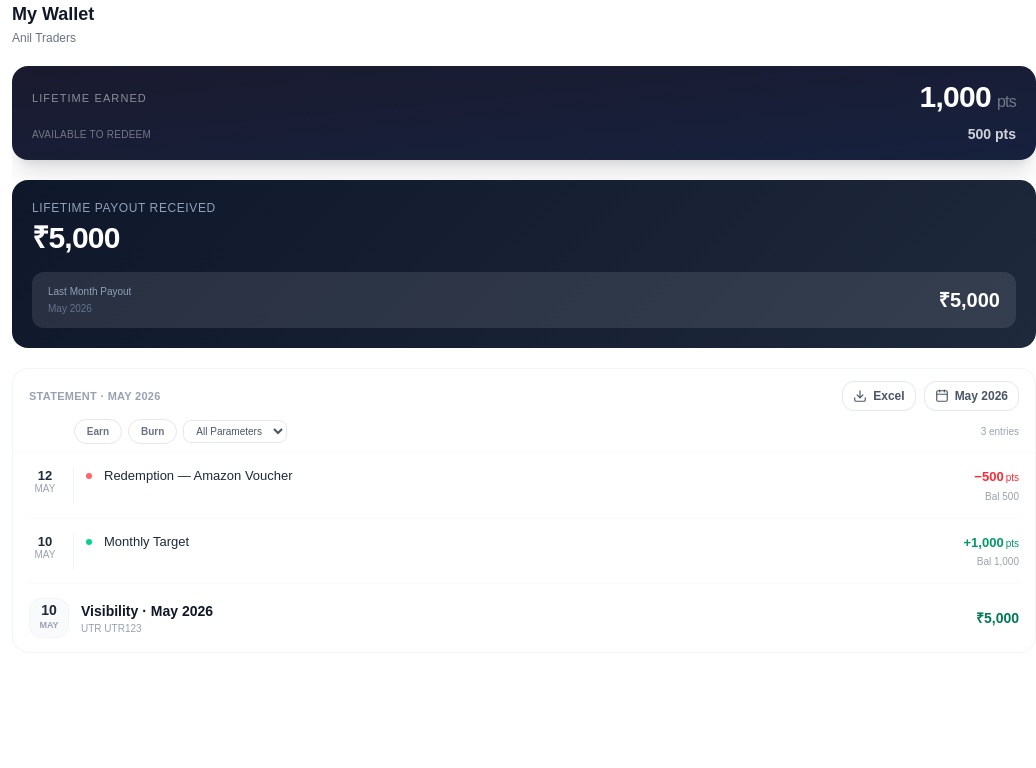
W — KPI filter in the combined partner wallet statement › W4: selecting "All Parameters" restores all rows
The image size is (1036, 768).
Select "Monthly Target" in the dropdown with test id "wallet-kpi-filter": point(235, 432) [183,420,287,443]
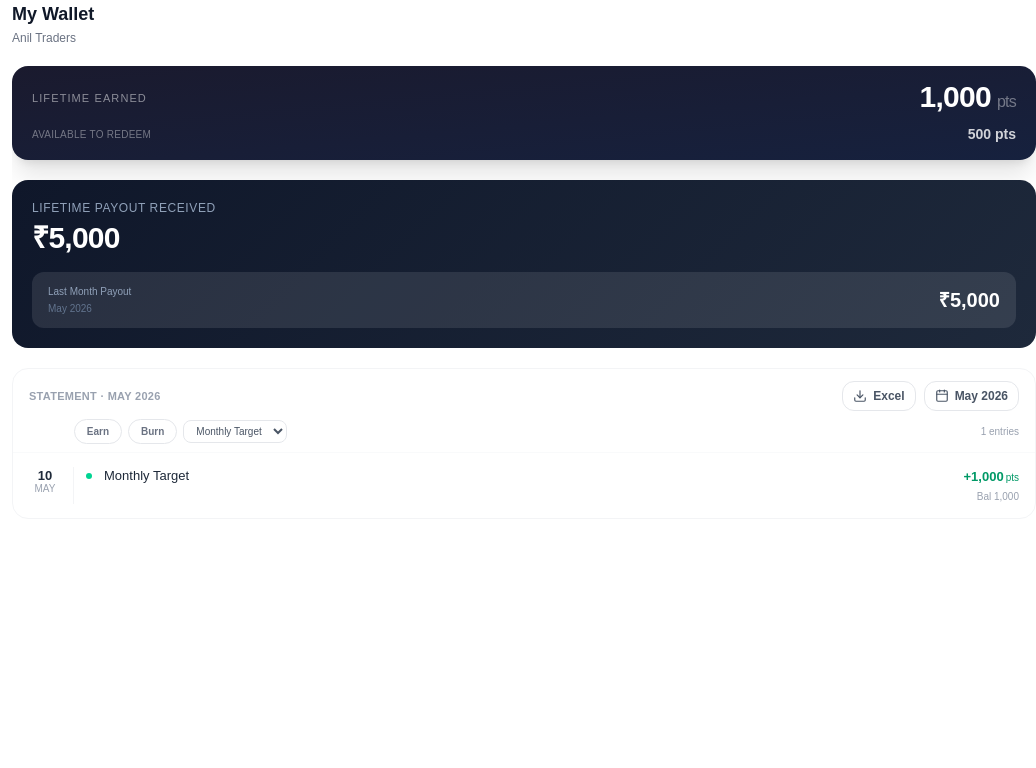
Select "All Parameters" in the dropdown with test id "wallet-kpi-filter": point(235, 432) [183,420,287,443]
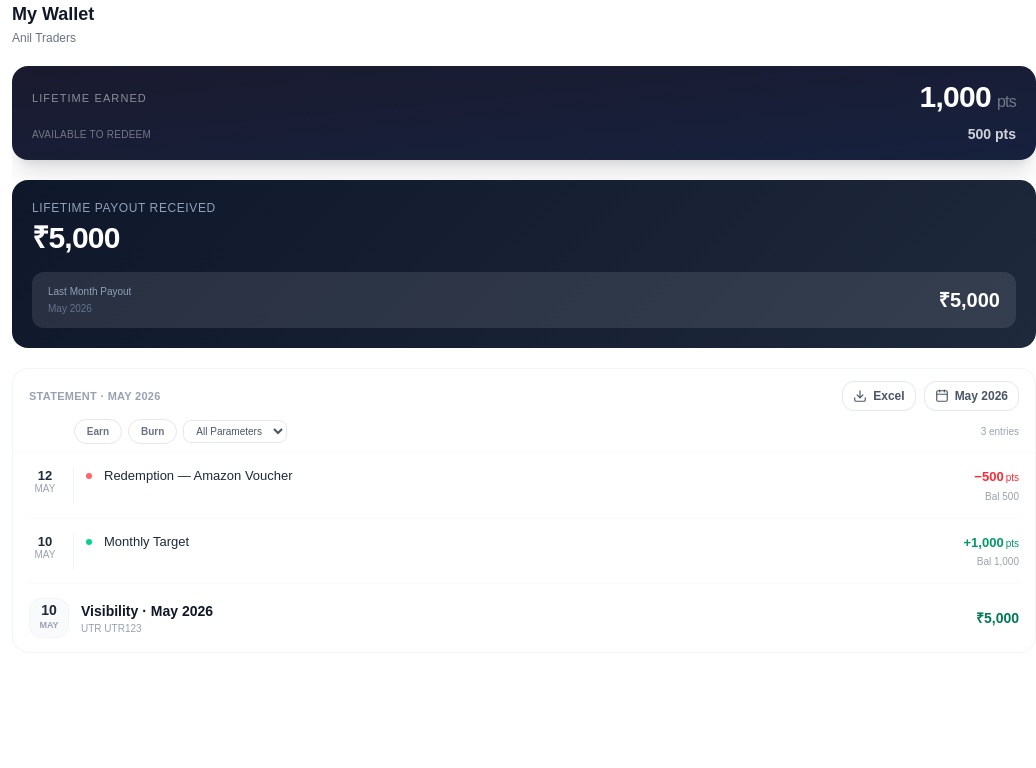
Expected: the text "Redemption — Amazon Voucher" is shown, [104,468,293,483]
